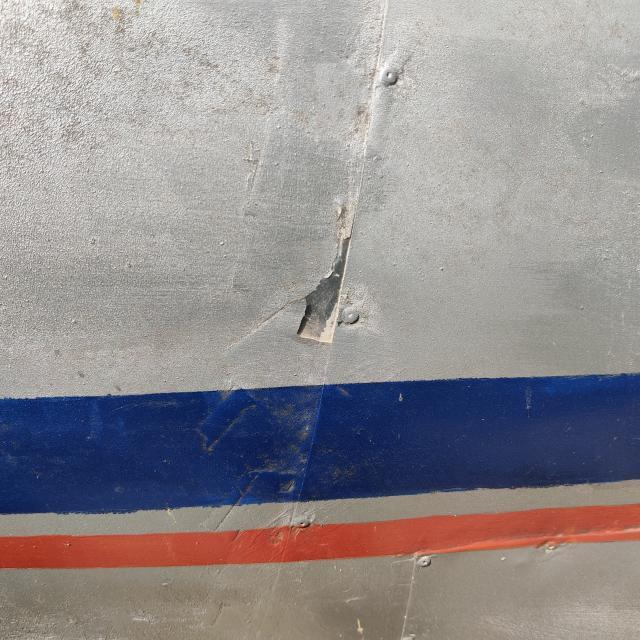Paint-off: (298, 237, 350, 342)
